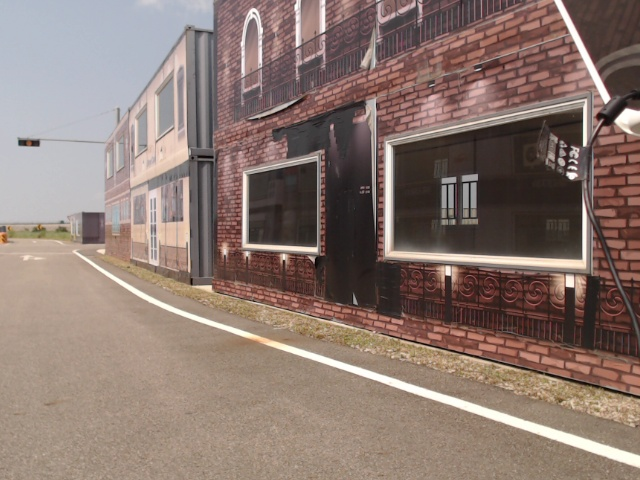orange_3: (17, 137, 41, 149)
